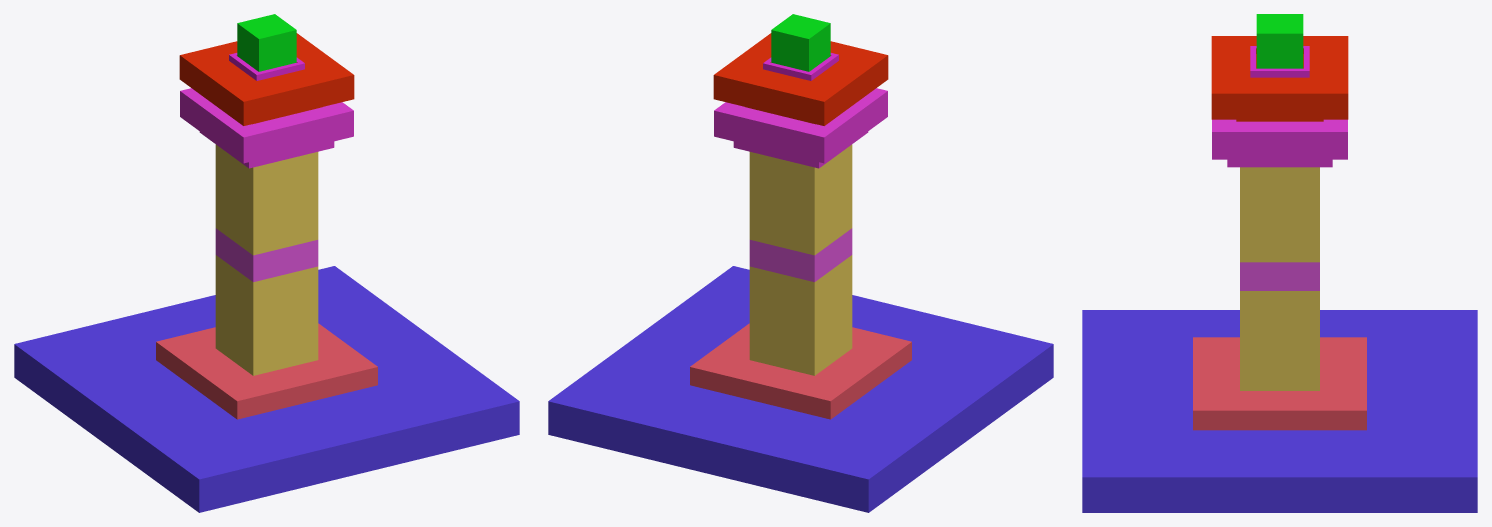
File: sniper_Lv1.fbx
The picture shows the model from 3 angles, left to right: view 1: azimuth 30°, elevation 25°; view 2: azimuth 150°, elevation 25°; view 3: azimuth 270°, elevation 25°; orthographic projection. The views are drawn at different scales.
Visible parts, largest first — view 1: Cube.001; view 2: Cube.001; view 3: Cube.001.
Part boxes in pixels (x1,y1,x2,y2): Cube.001: [14, 14, 519, 512]; Cube.001: [548, 14, 1053, 512]; Cube.001: [1082, 14, 1477, 512].
Size of the model in its own units: 200 by 226 by 200.
